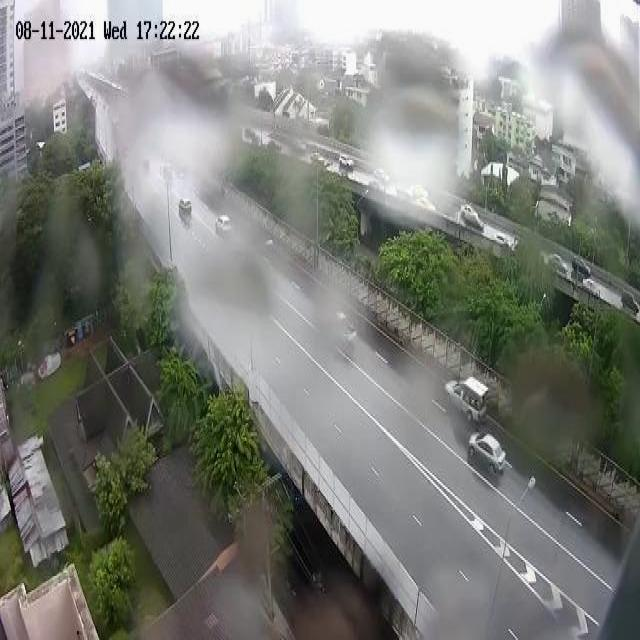Car: (462, 422, 513, 477), (446, 372, 492, 422), (326, 308, 360, 363), (215, 207, 235, 244), (459, 201, 484, 223), (339, 147, 357, 174), (177, 198, 197, 221), (370, 164, 392, 184), (313, 156, 334, 171)
